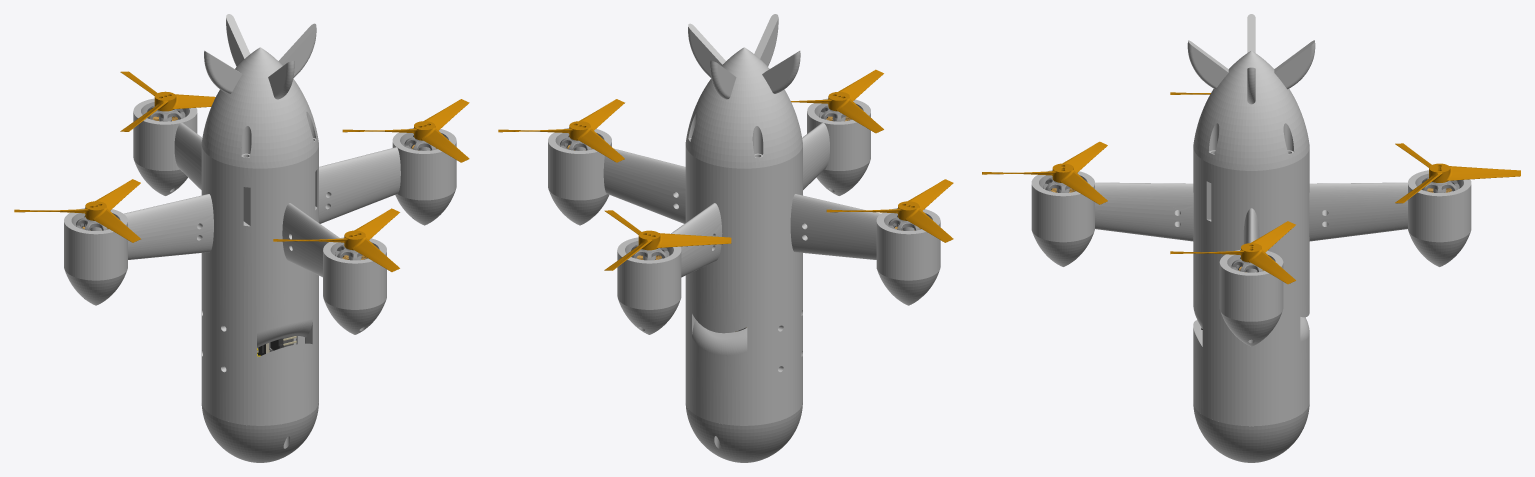
The model's file is interceptor-v2.glb.
3 renders of one model, left to right at view 1: azimuth 30°, elevation 25°; view 2: azimuth 150°, elevation 25°; view 3: azimuth 270°, elevation 25°, orthographic.
Visible parts, largest first — view 1: empty_2; view 2: empty_2; view 3: empty_2.
Boxes of the visible parts, bbox=[...] form: empty_2: bbox=[14, 14, 469, 462]; empty_2: bbox=[498, 14, 953, 462]; empty_2: bbox=[982, 14, 1520, 462].
Size of the model in its own units: 247 by 218 by 254.
